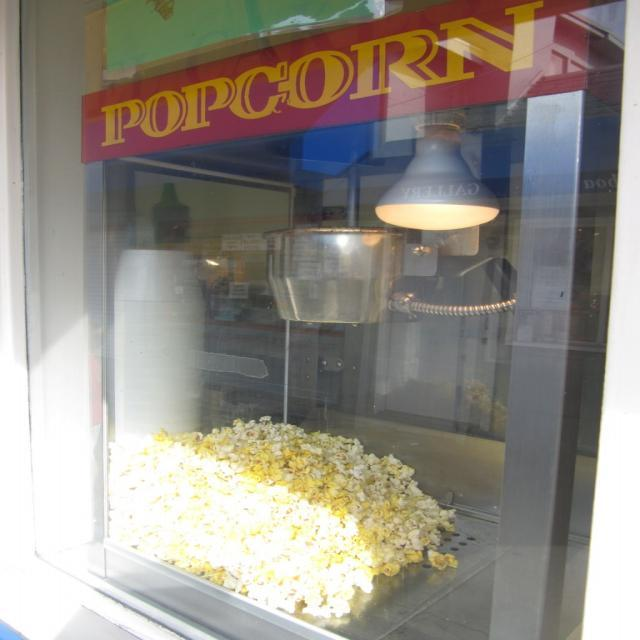Popcorn: (103, 413, 459, 617)
